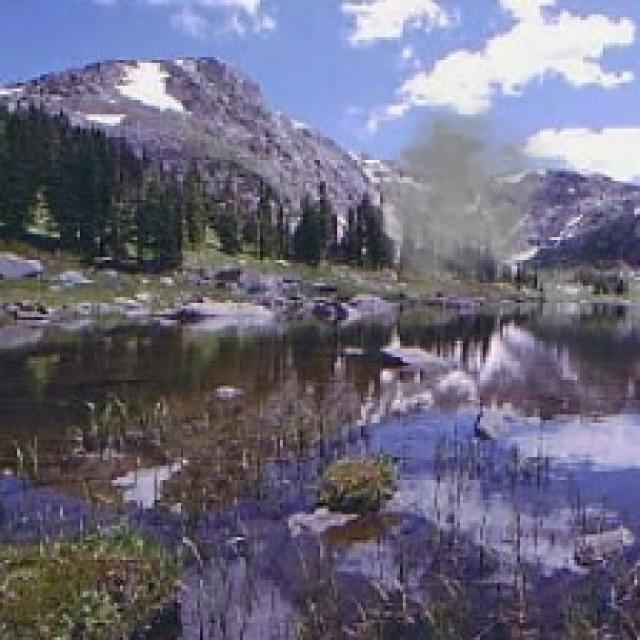Smoke: (366, 91, 566, 298)
